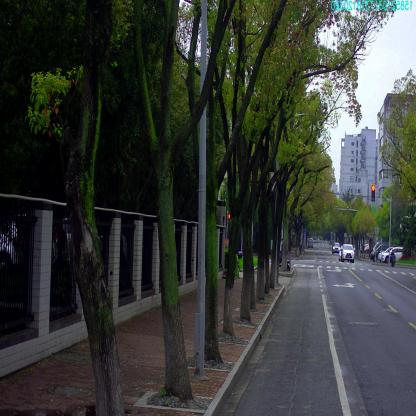traffic-light: (372, 184, 375, 202)
